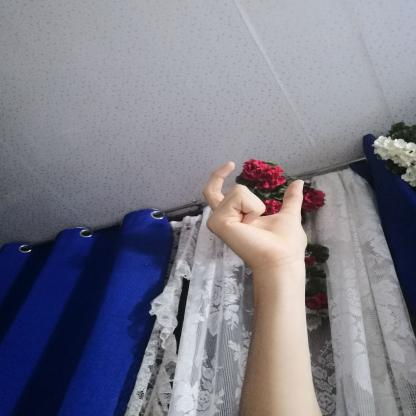NOON: (188, 153, 319, 275)
